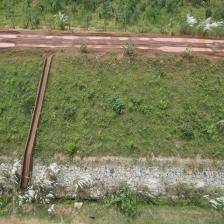slope drain: (21, 53, 54, 189)
